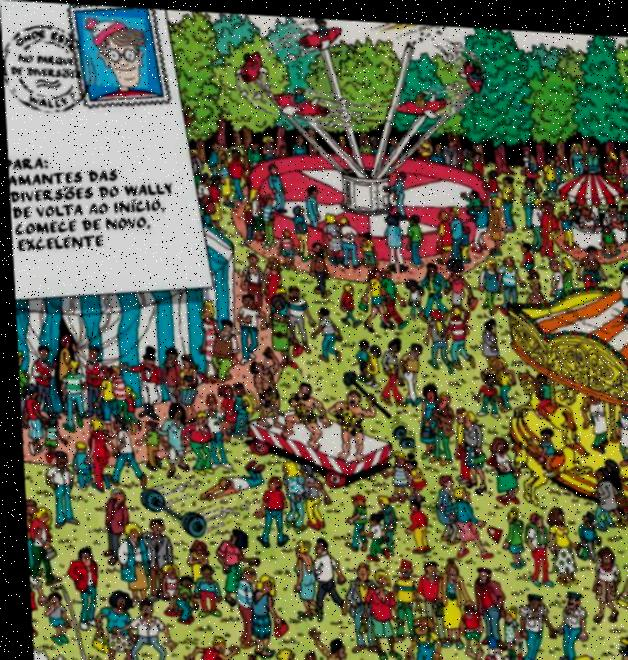waldo: (82, 14, 147, 87)
